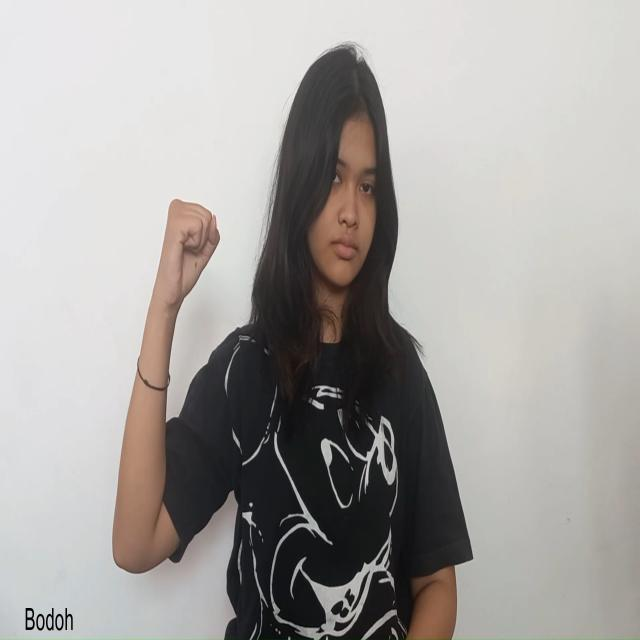Bodoh -BISINDO-: (156, 196, 222, 317)
